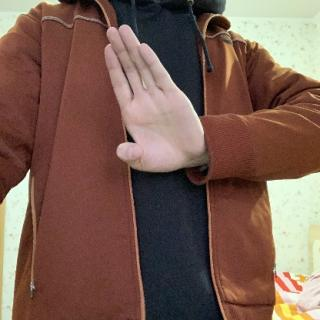KAAF: (98, 23, 208, 182)
